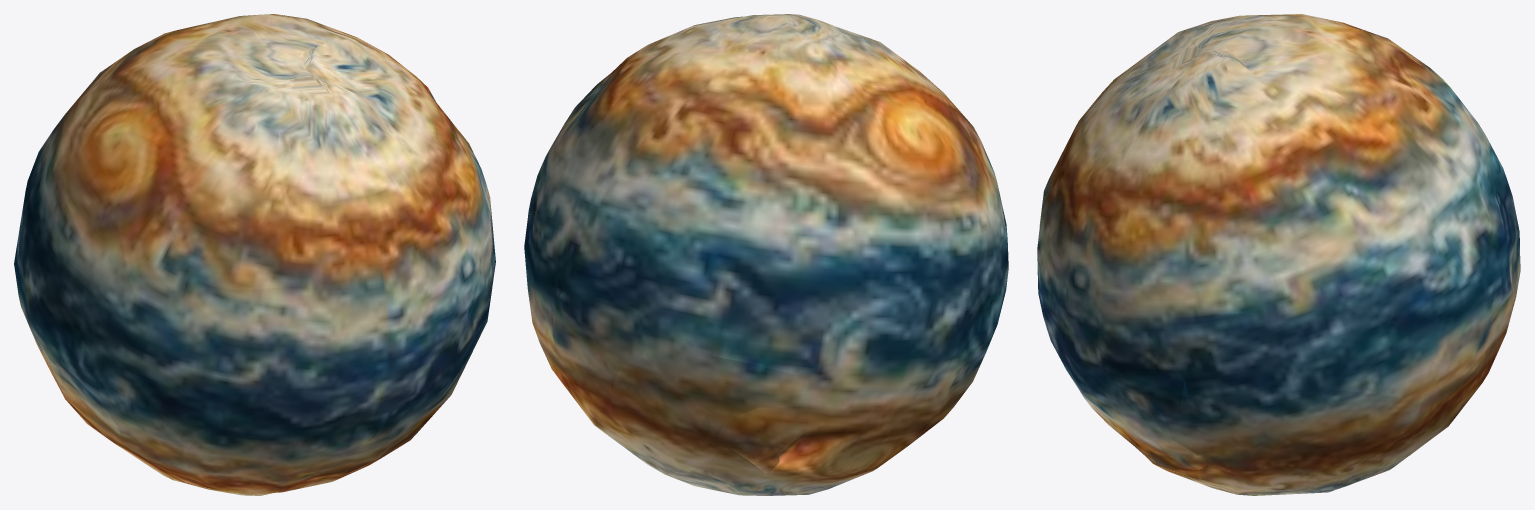
The model's file is planet_3-lod.glb.
3 renders of one model, left to right at view 1: azimuth 30°, elevation 25°; view 2: azimuth 150°, elevation 25°; view 3: azimuth 270°, elevation 25°, orthographic.
Visible parts, largest first — view 1: Mesh_0.001; view 2: Mesh_0.001; view 3: Mesh_0.001.
Part boxes in pixels (x1,y1,x2,y2): Mesh_0.001: (14,14,495,495); Mesh_0.001: (524,14,1008,495); Mesh_0.001: (1037,14,1520,495).
Bounding box in the file's own units: 1.9 × 1.9 × 1.9.
Materials: 1 (1 with a texture image).
